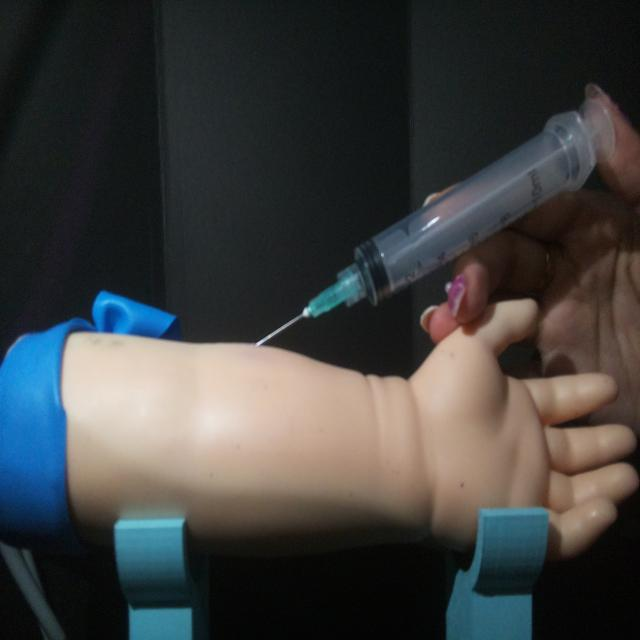29deg: (250, 85, 618, 352)
